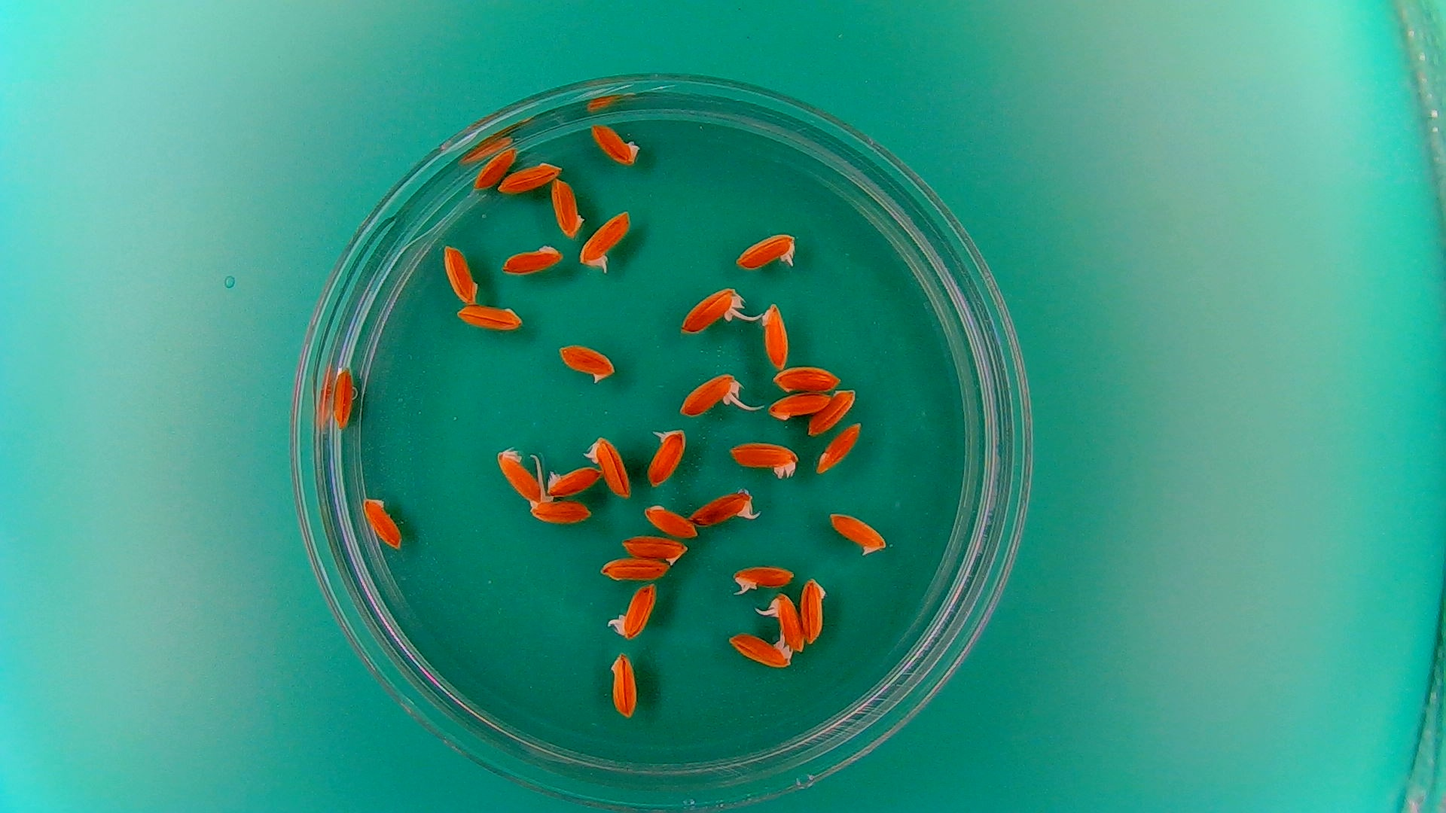no: (725, 437, 801, 480), (825, 509, 889, 559), (493, 443, 544, 503), (724, 628, 794, 669), (753, 298, 792, 369), (439, 240, 480, 306), (807, 386, 859, 437), (814, 421, 862, 476), (496, 157, 563, 196), (587, 119, 642, 166), (548, 175, 586, 240), (617, 532, 689, 566), (606, 650, 640, 722), (770, 362, 844, 395), (361, 492, 403, 550), (469, 143, 519, 191), (499, 241, 566, 276), (453, 301, 525, 333), (642, 501, 700, 540), (764, 389, 834, 421), (597, 554, 670, 583), (798, 575, 828, 645), (545, 464, 603, 499), (330, 364, 356, 431)
yes: (577, 206, 633, 274), (675, 283, 746, 336), (580, 431, 633, 499), (676, 367, 745, 419), (732, 227, 801, 273), (608, 581, 658, 642), (689, 484, 758, 528), (645, 424, 688, 489), (555, 340, 618, 384), (766, 590, 806, 653), (729, 560, 798, 594), (526, 493, 593, 525)
